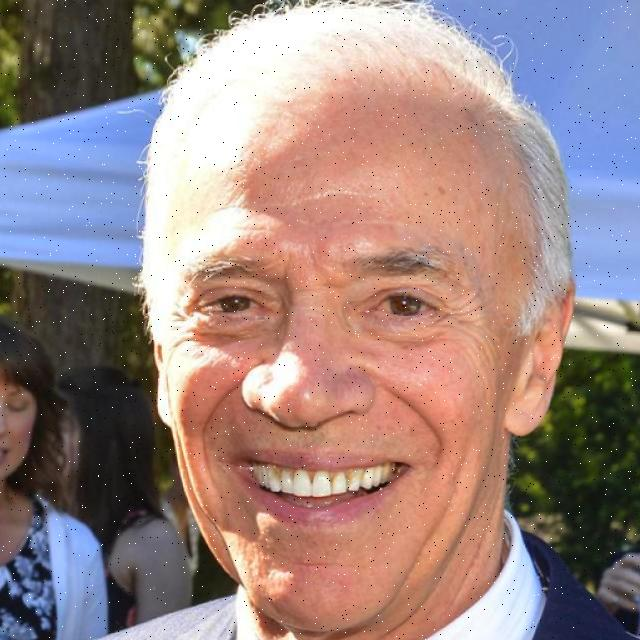puffy_eyes: (191, 318, 269, 340), (369, 321, 442, 338)
